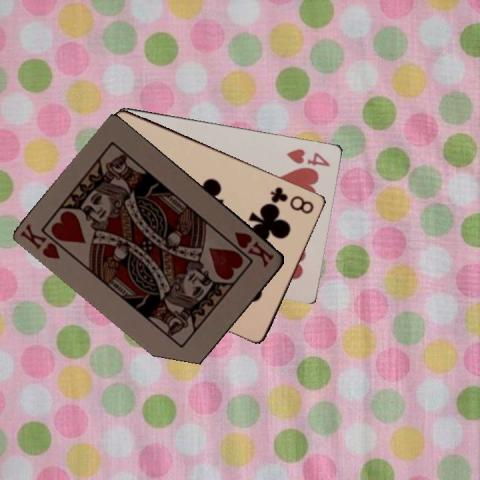4h: (283, 145, 332, 168)
8c: (267, 184, 316, 216)
Kh: (231, 228, 276, 269), (17, 221, 62, 260)
